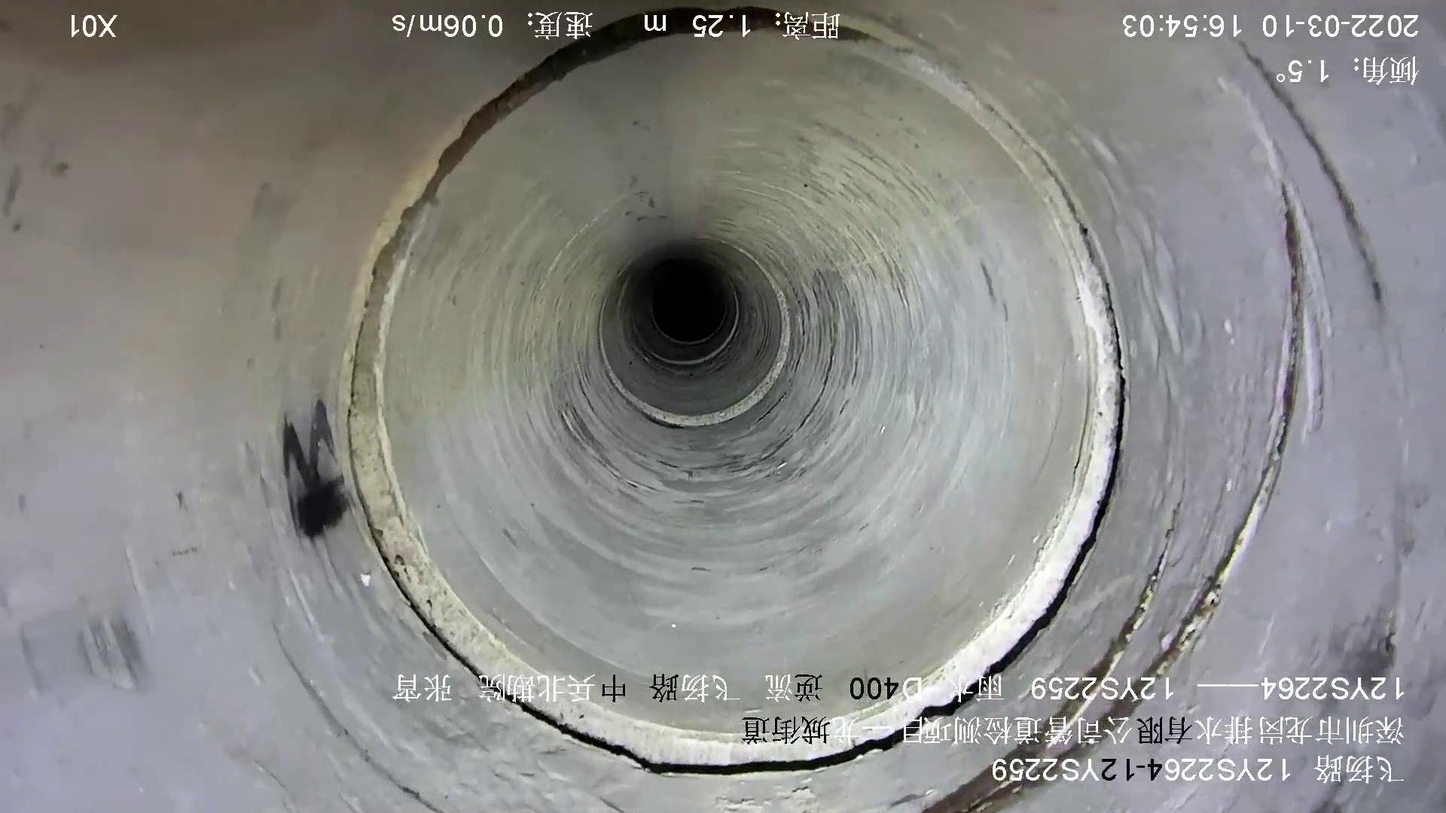CKTJ: (343, 50, 1122, 765), (599, 278, 791, 427)
